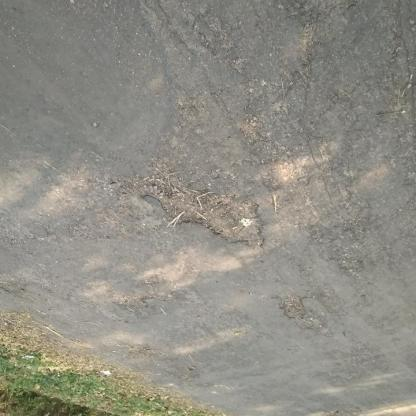pothole: (131, 177, 267, 254), (277, 296, 324, 333), (1, 282, 28, 297)
